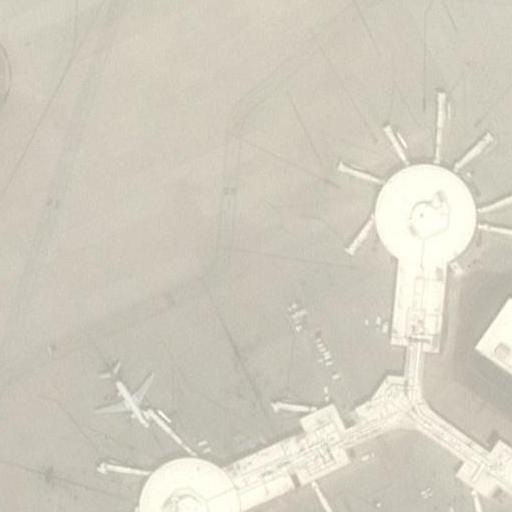Aircraft: (92, 366, 165, 439)
